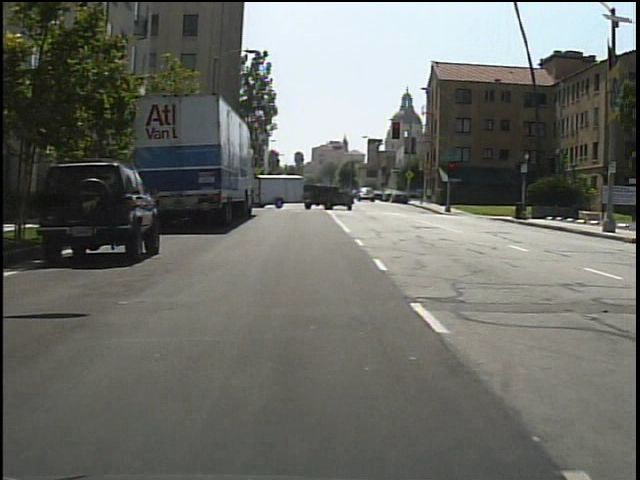person: (425, 184, 437, 210), (417, 187, 426, 209)
